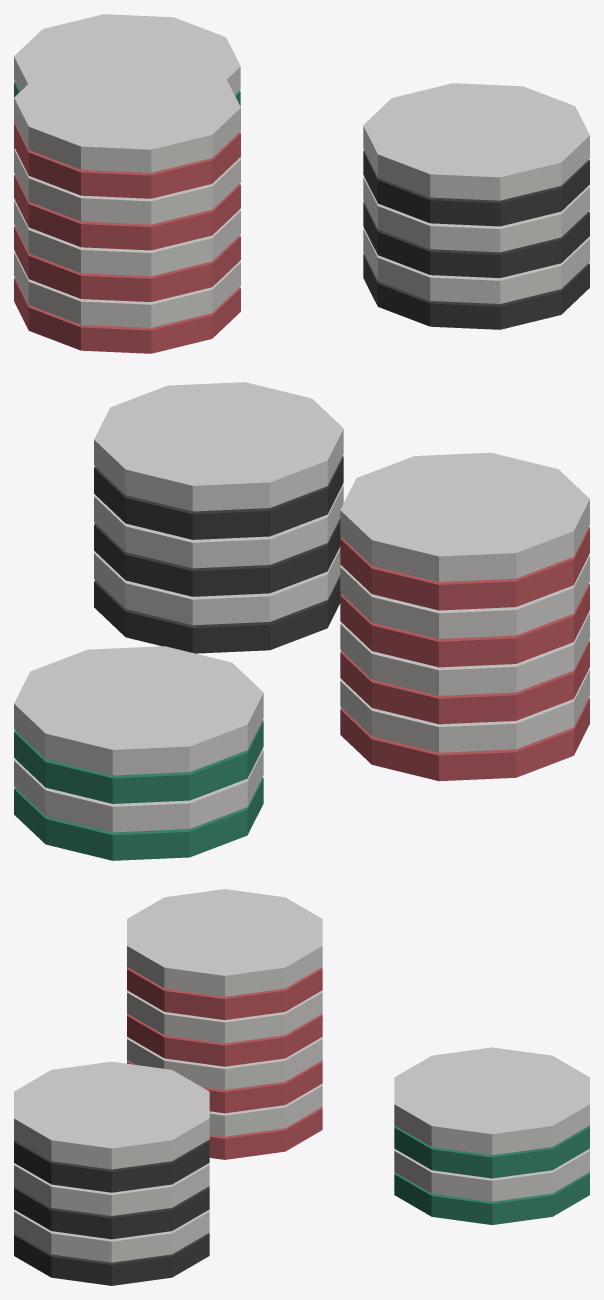
File: poker-chips.glb
3 renders of one model, top to bottom at view 1: azimuth 30°, elevation 25°; view 2: azimuth 150°, elevation 25°; view 3: azimuth 270°, elevation 25°, orthographic. The views are drawn at different scales.
Visible parts, largest first — view 1: geometry_0; view 2: geometry_0; view 3: geometry_0.
Part boxes in pixels (bbox=[...]): geometry_0: bbox=[14, 14, 589, 353]; geometry_0: bbox=[14, 382, 589, 860]; geometry_0: bbox=[14, 889, 589, 1285].
Size of the model in its own units: 0.098 by 0.0395 by 0.112.
